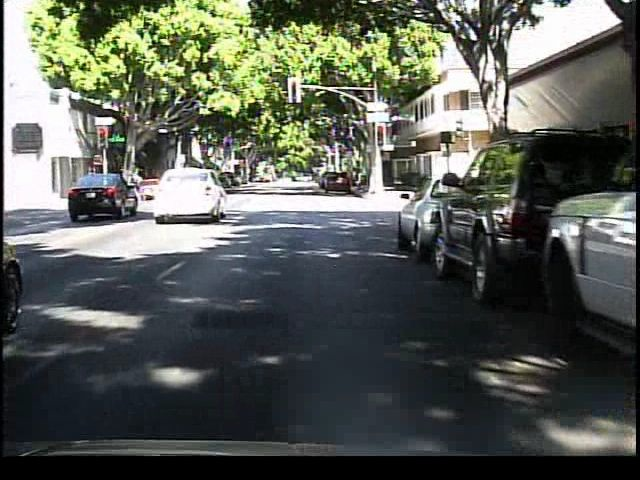person: (129, 161, 152, 197)
